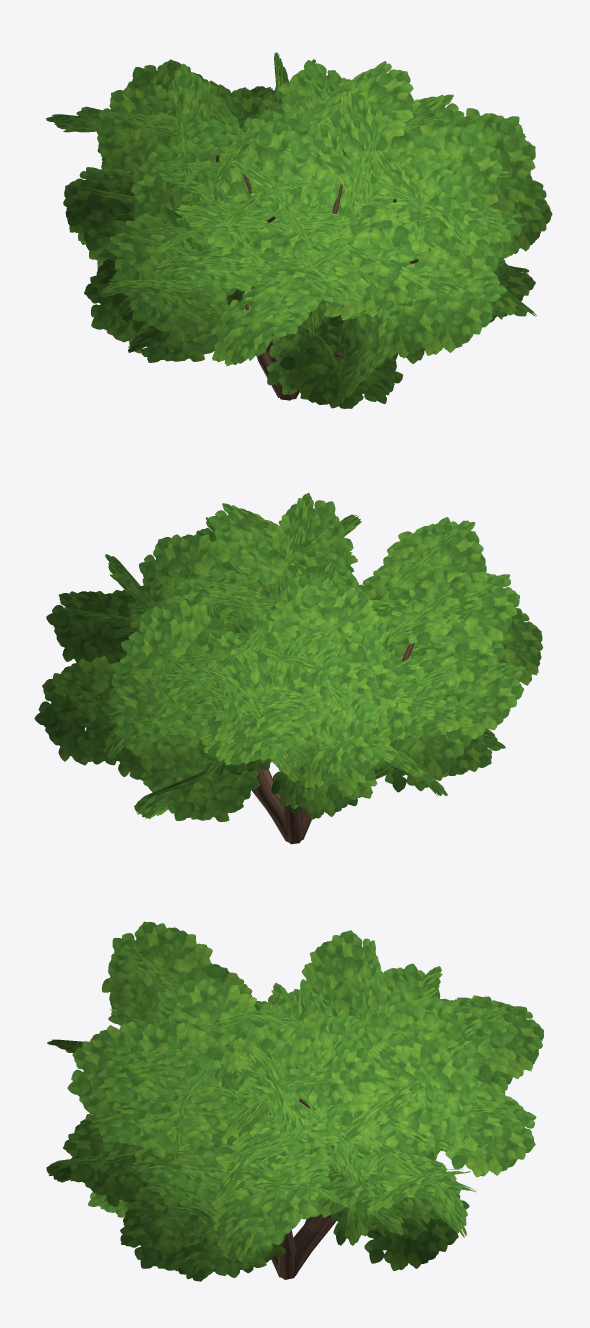
Rendered from SM_Bush_LOD2.fbx.
The picture shows the model from 3 angles, top to bottom: view 1: azimuth 30°, elevation 25°; view 2: azimuth 150°, elevation 25°; view 3: azimuth 270°, elevation 25°; orthographic projection. The views are drawn at different scales.
Visible parts, largest first — view 1: SM_Bush_LOD2; view 2: SM_Bush_LOD2; view 3: SM_Bush_LOD2.
Part boxes in pixels (bbox=[...]): SM_Bush_LOD2: bbox=[46, 52, 552, 408]; SM_Bush_LOD2: bbox=[34, 493, 543, 844]; SM_Bush_LOD2: bbox=[46, 921, 543, 1281].
Size of the model in its own units: 1.96 by 1.3 by 1.88.
Materials: 2 (2 with a texture image).
